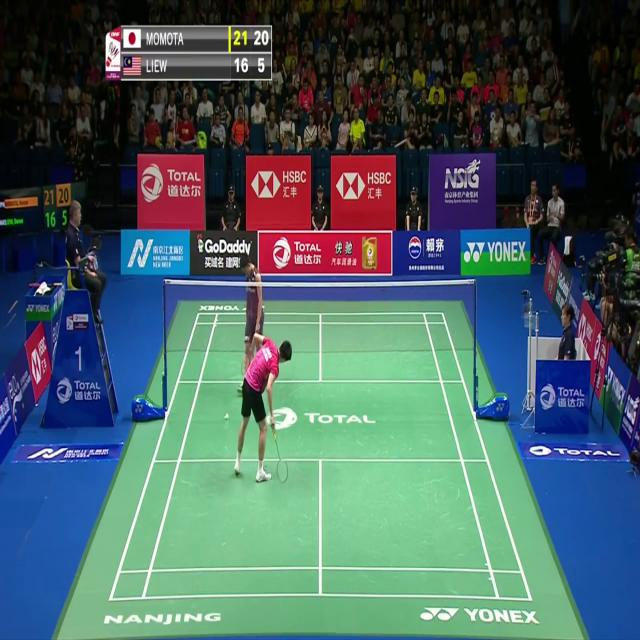Shuttlecock: (223, 410, 230, 422)
